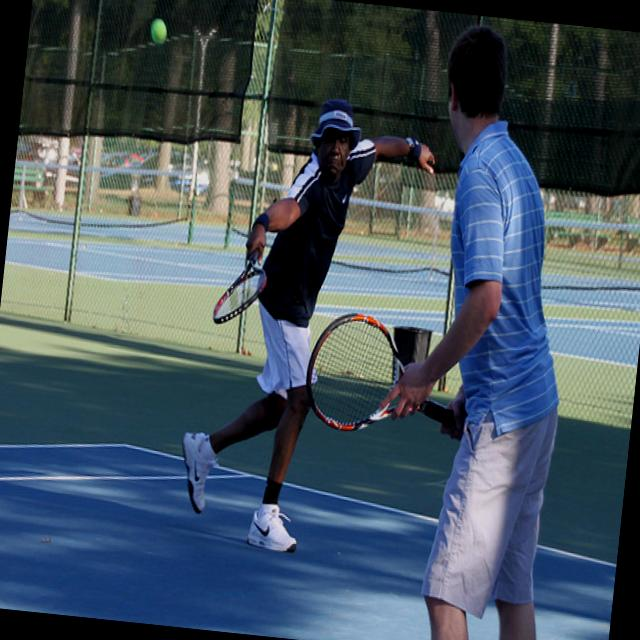Vehicle: (99, 140, 198, 197), (99, 149, 132, 179)
